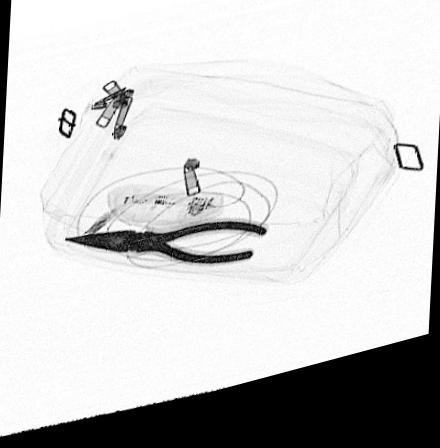Pliers: (61, 231, 267, 279)
